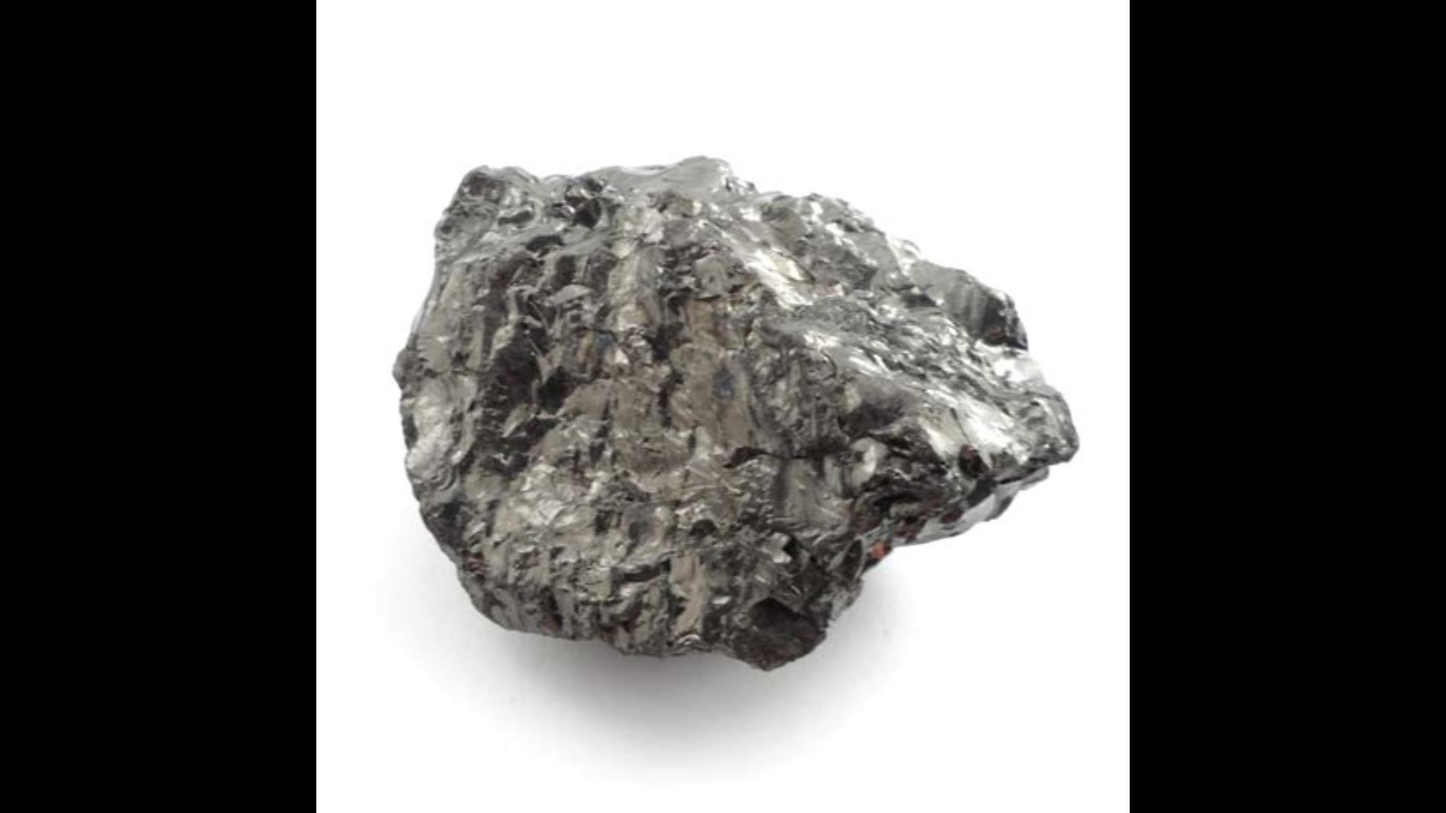rock: (394, 160, 1076, 664)
